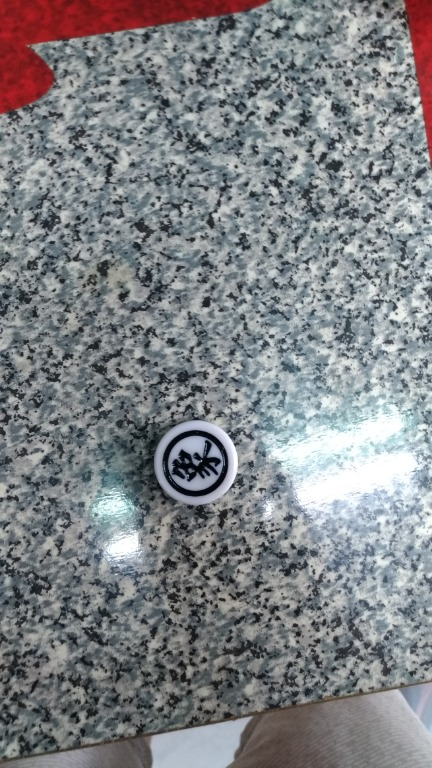b-elephant: (135, 414, 273, 518)
